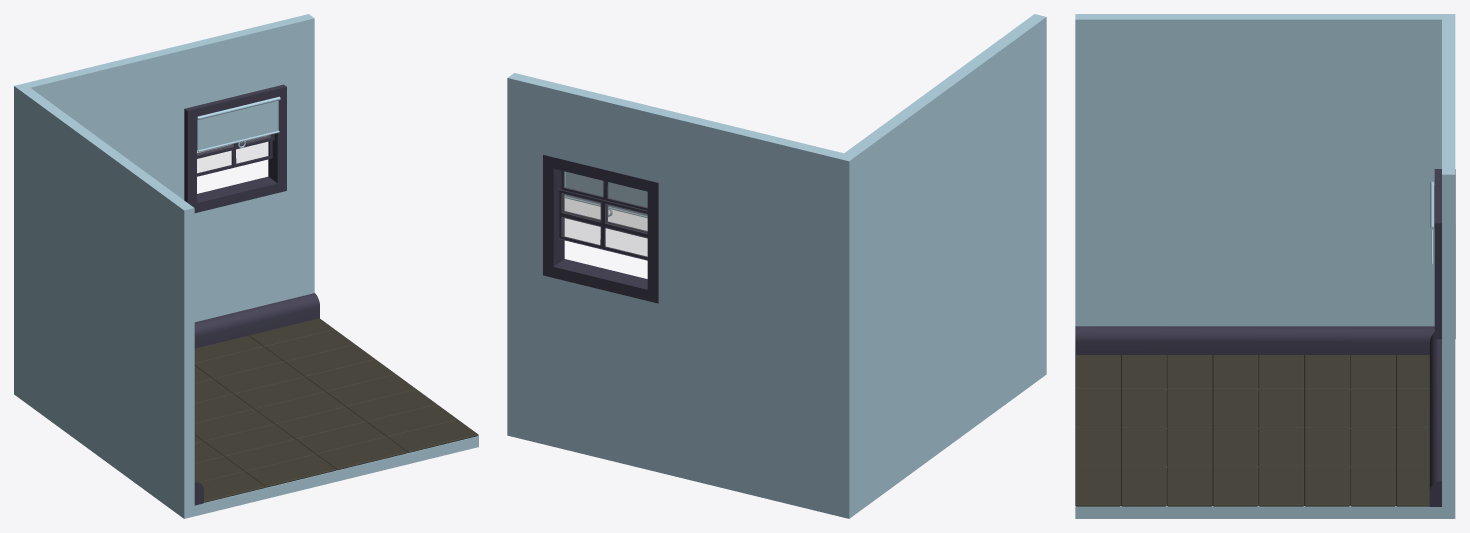
Rendered from darkroom.glb.
The picture shows the model from 3 angles, left to right: view 1: azimuth 30°, elevation 25°; view 2: azimuth 150°, elevation 25°; view 3: azimuth 270°, elevation 25°; orthographic projection. The views are drawn at different scales.
Parts seen in each view (by area): view 1: Cube, Floor, Window, Trim, WindowPane.001; view 2: Cube, Window, WindowPane.001, WindowPane; view 3: Cube, Floor, Trim, Window.
Part boxes in pixels (left/top/right/bottom): Cube: left=14, top=14, right=478, bottom=518; Floor: left=194, top=318, right=478, bottom=502; Window: left=184, top=84, right=286, bottom=213; Trim: left=194, top=293, right=319, bottom=505; WindowPane.001: left=197, top=135, right=272, bottom=176; Cube: left=507, top=14, right=1046, bottom=518; Window: left=543, top=154, right=658, bottom=303; WindowPane.001: left=558, top=189, right=647, bottom=260; WindowPane: left=561, top=170, right=647, bottom=232; Cube: left=1075, top=14, right=1455, bottom=518; Floor: left=1075, top=355, right=1429, bottom=506; Trim: left=1075, top=326, right=1441, bottom=506; Window: left=1433, top=169, right=1455, bottom=339.
Size of the model in its own units: 10 by 10 by 10.02.
